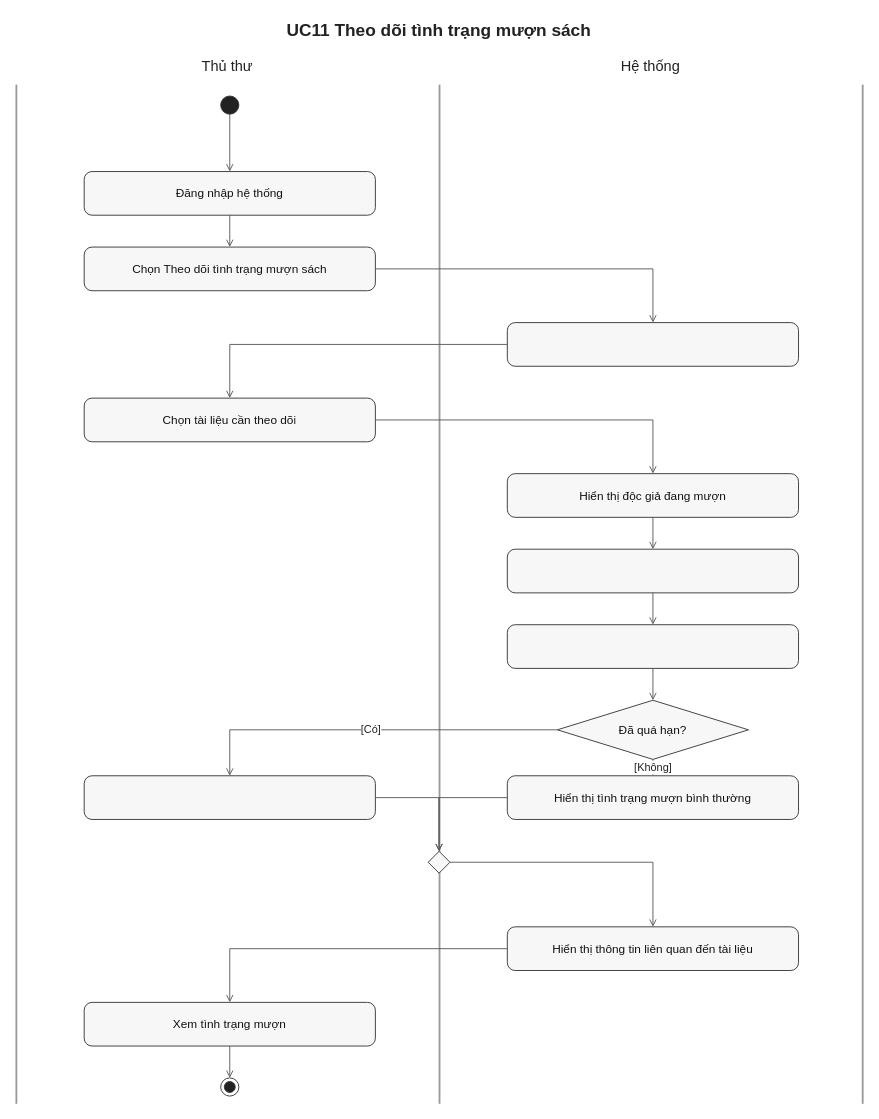
Some shapes in this 879 by 1119 pixel diagram are drawn without their labels. Here are the shapes that lost their labels. From the top down, the centre of each, then its label:
the point at 652,344: Hiển thị danh sách tài liệu đang được mượn
the point at 652,570: Hiển thị thời hạn trả
the point at 652,646: Kiểm tra tình trạng quá hạn
the point at 229,797: Hiển thị tình trạng mượn quá hạn
